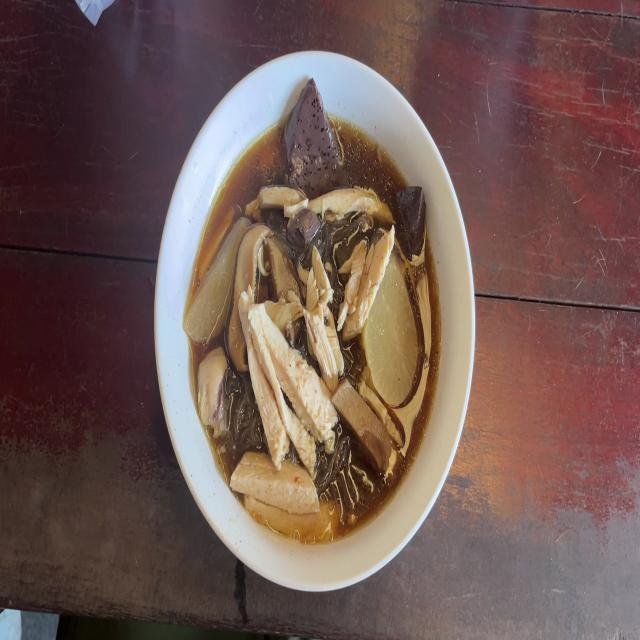boiled_chicken_blood_jelly: (275, 80, 338, 186), (396, 184, 428, 252), (285, 217, 318, 247)
chicken_shredded: (242, 306, 326, 460), (236, 448, 332, 542), (339, 232, 395, 334), (305, 244, 344, 384), (253, 182, 387, 220), (190, 348, 230, 428)
daikon_radish: (192, 219, 234, 336), (378, 295, 418, 400)
noodle: (192, 111, 442, 526)
